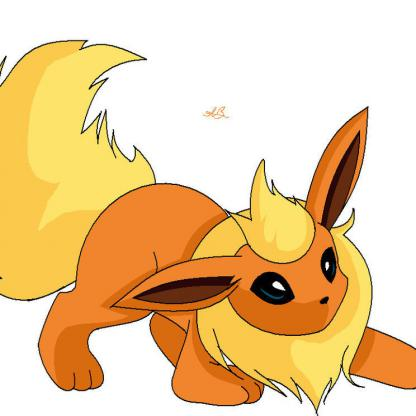Flareon: (1, 32, 416, 416)
